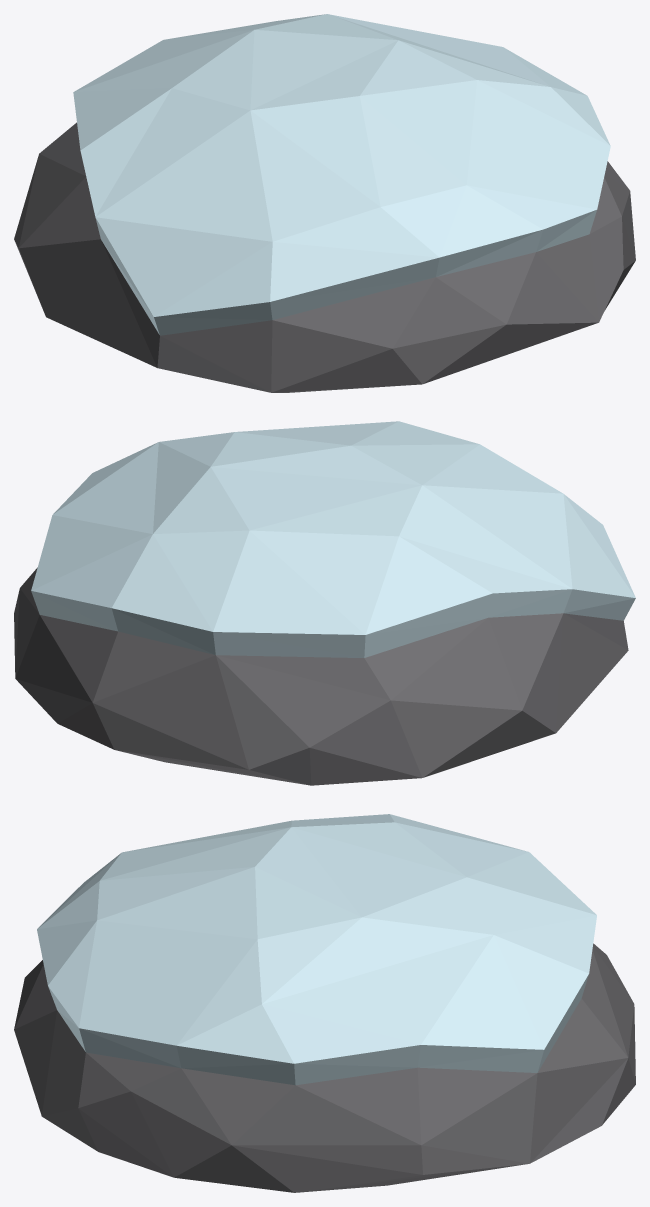
The model's file is SM_Env_Rock_05_Snow.fbx.
3 renders of one model, top to bottom at view 1: azimuth 30°, elevation 25°; view 2: azimuth 150°, elevation 25°; view 3: azimuth 270°, elevation 25°, orthographic. The views are drawn at different scales.
Parts seen in each view (by area): view 1: SM_Env_Rock_05_Snow; view 2: SM_Env_Rock_05_Snow; view 3: SM_Env_Rock_05_Snow.
Part boxes in pixels (box(x1,y1,x2,y2)): SM_Env_Rock_05_Snow: box(14, 14, 635, 392); SM_Env_Rock_05_Snow: box(14, 421, 635, 785); SM_Env_Rock_05_Snow: box(14, 814, 635, 1192).
Bounding box in the file's own units: 142 × 58.61 × 144.
